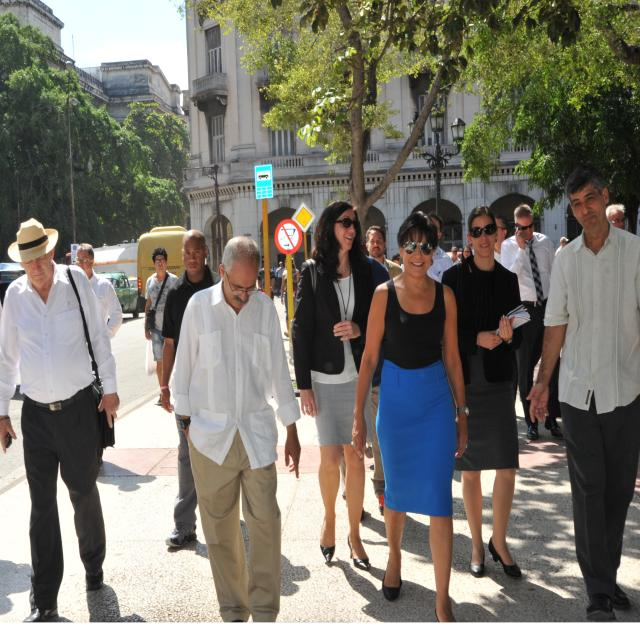body: (164, 234, 304, 640), (524, 161, 640, 640), (348, 207, 472, 639), (0, 214, 123, 632), (436, 202, 534, 584), (288, 198, 385, 576), (158, 227, 228, 551), (385, 203, 640, 265), (499, 204, 565, 441), (349, 252, 392, 521), (143, 247, 180, 408), (74, 242, 123, 340), (422, 211, 456, 283), (365, 225, 404, 281), (280, 257, 300, 337), (257, 256, 276, 304), (271, 255, 288, 305), (0, 297, 13, 346)
